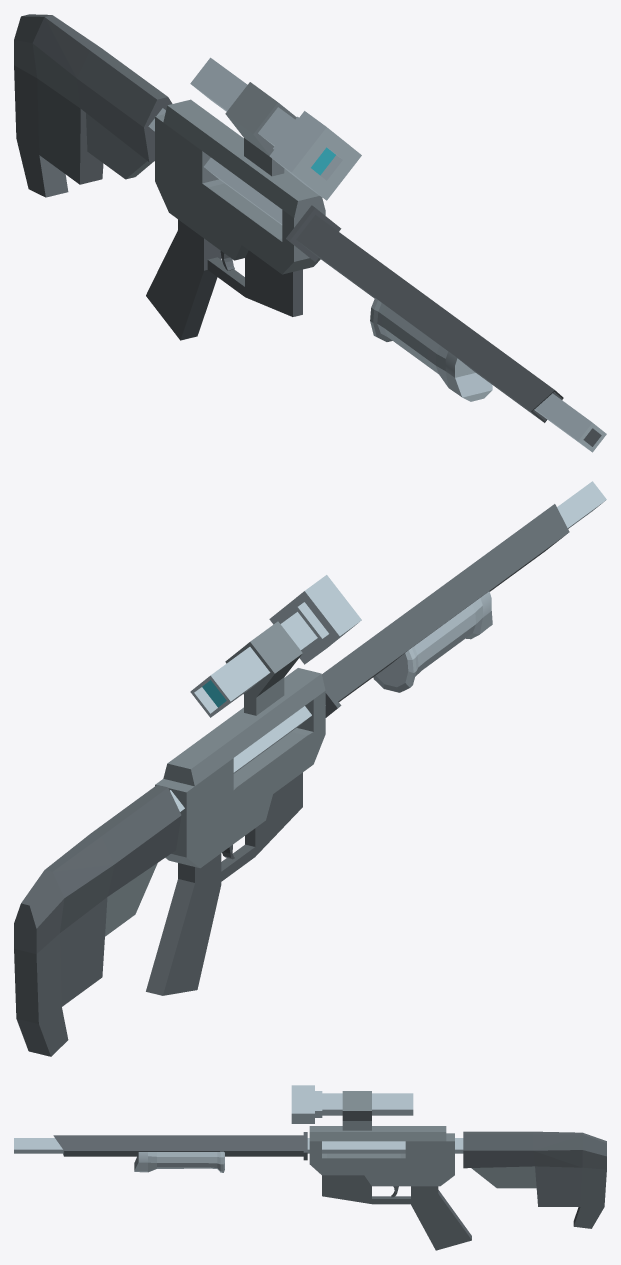
Rendered from sci-weapon-sniper.fbx.
3 renders of one model, top to bottom at view 1: azimuth 30°, elevation 25°; view 2: azimuth 150°, elevation 25°; view 3: azimuth 270°, elevation 25°, orthographic. The views are drawn at different scales.
Visible parts, largest first — view 1: body, scope, _SM_Wep_Shotgun_Pump_01; view 2: body, scope, _SM_Wep_Shotgun_Pump_01; view 3: body, scope, _SM_Wep_Shotgun_Pump_01.
Boxes of the visible parts, x1,y1,x2,y2 form: body: (14, 14, 606, 452); scope: (190, 57, 361, 200); _SM_Wep_Shotgun_Pump_01: (370, 298, 492, 401); body: (14, 481, 606, 1056); scope: (190, 575, 361, 717); _SM_Wep_Shotgun_Pump_01: (373, 591, 492, 692); body: (14, 1126, 606, 1250); scope: (291, 1085, 413, 1130); _SM_Wep_Shotgun_Pump_01: (134, 1151, 224, 1172).
Bounding box in the file's own units: 8.51 × 36.05 × 119.
